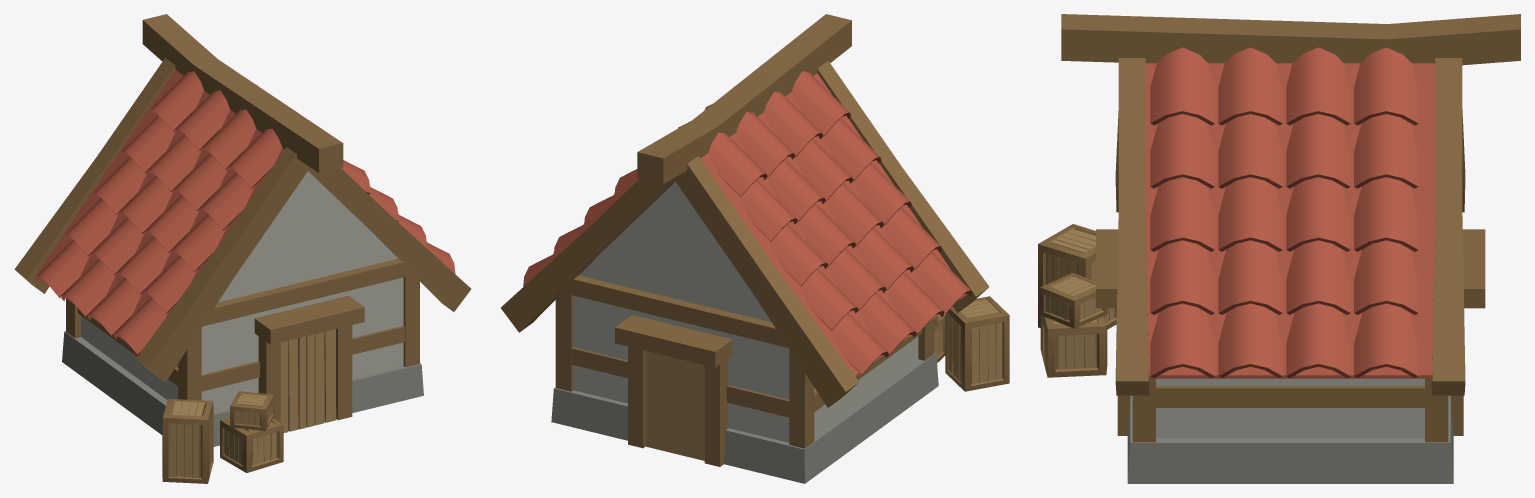
The model's file is House-oJJIRwv6Bo.glb.
3 views of the same model, side by side, from view 1: azimuth 30°, elevation 25°; view 2: azimuth 150°, elevation 25°; view 3: azimuth 270°, elevation 25° (orthographic). The views are drawn at different scales.
Parts seen in each view (by area): view 1: Houses_SecondAge_1_Level1; view 2: Houses_SecondAge_1_Level1; view 3: Houses_SecondAge_1_Level1.
Part boxes in pixels (x1,y1,x2,y2): Houses_SecondAge_1_Level1: (14, 14, 471, 483); Houses_SecondAge_1_Level1: (501, 14, 1009, 483); Houses_SecondAge_1_Level1: (1038, 14, 1520, 483).
Size of the model in its own units: 0.89 by 0.7722 by 0.8645.
